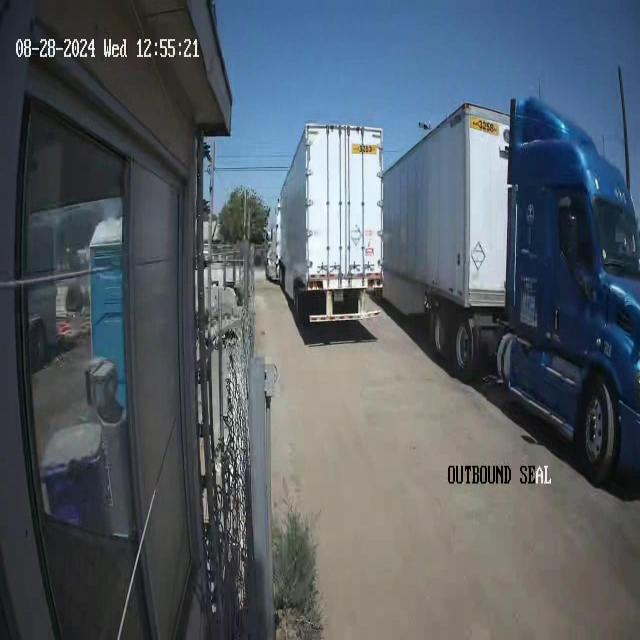TRUCK_IN: (385, 101, 640, 492)
TRUCK_OUT: (264, 123, 385, 337)
